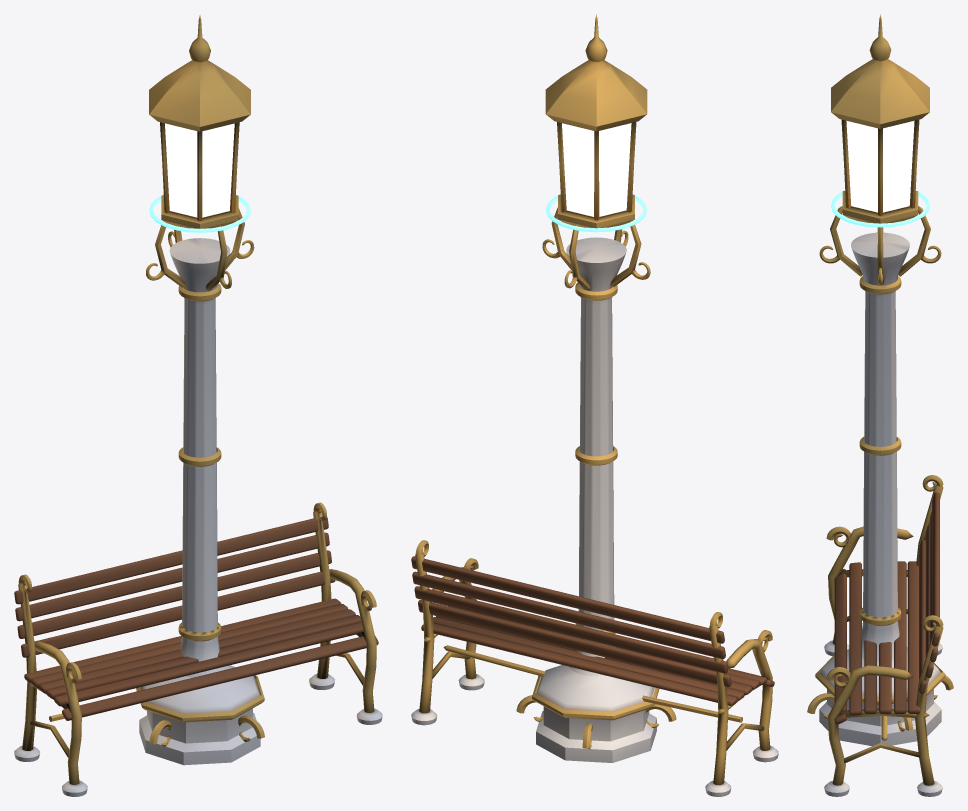
File: hub_props2.glb
3 renders of one model, left to right at view 1: azimuth 30°, elevation 25°; view 2: azimuth 150°, elevation 25°; view 3: azimuth 270°, elevation 25°, orthographic. The views are drawn at different scales.
Parts seen in each view (by area): view 1: hx_bench2, hx_lamp2, hx_lamp2_glow; view 2: hx_lamp2, hx_bench2, hx_lamp2_glow; view 3: hx_lamp2, hx_bench2, hx_lamp2_glow.
Boxes of the visible parts, x1,y1,x2,y2 form: hx_bench2: (14, 502, 382, 796); hx_lamp2: (136, 15, 264, 765); hx_lamp2_glow: (149, 123, 250, 232); hx_lamp2: (516, 14, 676, 762); hx_bench2: (411, 540, 778, 796); hx_lamp2_glow: (546, 123, 646, 232); hx_lamp2: (807, 14, 953, 746); hx_bench2: (824, 475, 943, 796); hx_lamp2_glow: (831, 120, 929, 227).
Size of the model in its own units: 1.81 by 3.95 by 0.7398.
